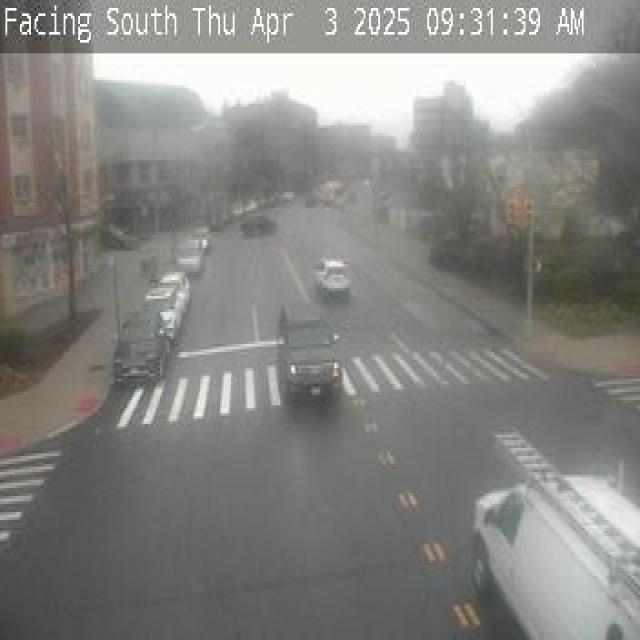open parking: (158, 249, 215, 339)
